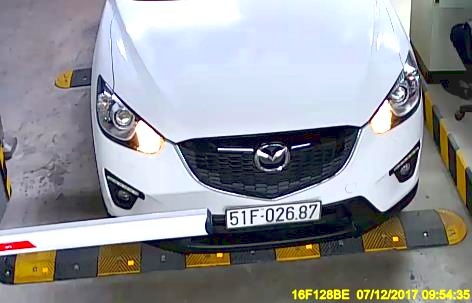plate: (224, 199, 322, 230)
